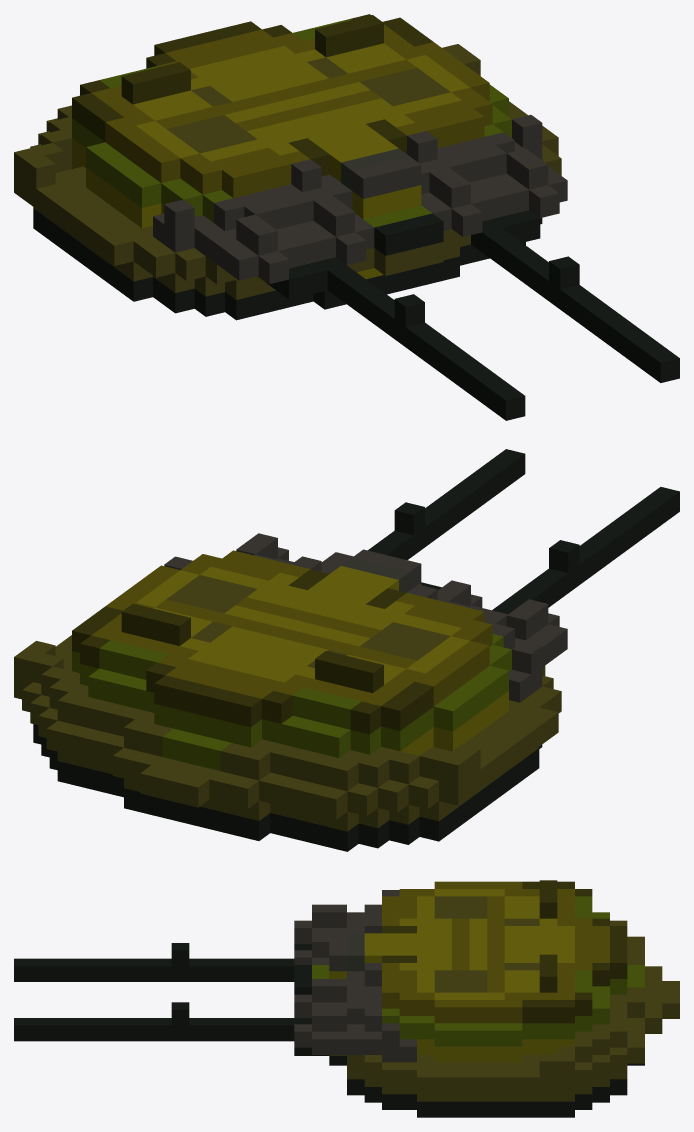
The model's file is firsttank-23.obj.
3 views of the same model, one above another, from view 1: azimuth 30°, elevation 25°; view 2: azimuth 150°, elevation 25°; view 3: azimuth 270°, elevation 25° (orthographic). The views are drawn at different scales.
Bounding box in the file's own units: 2.3 × 0.7 × 3.8.
1 material, 1 textured.
